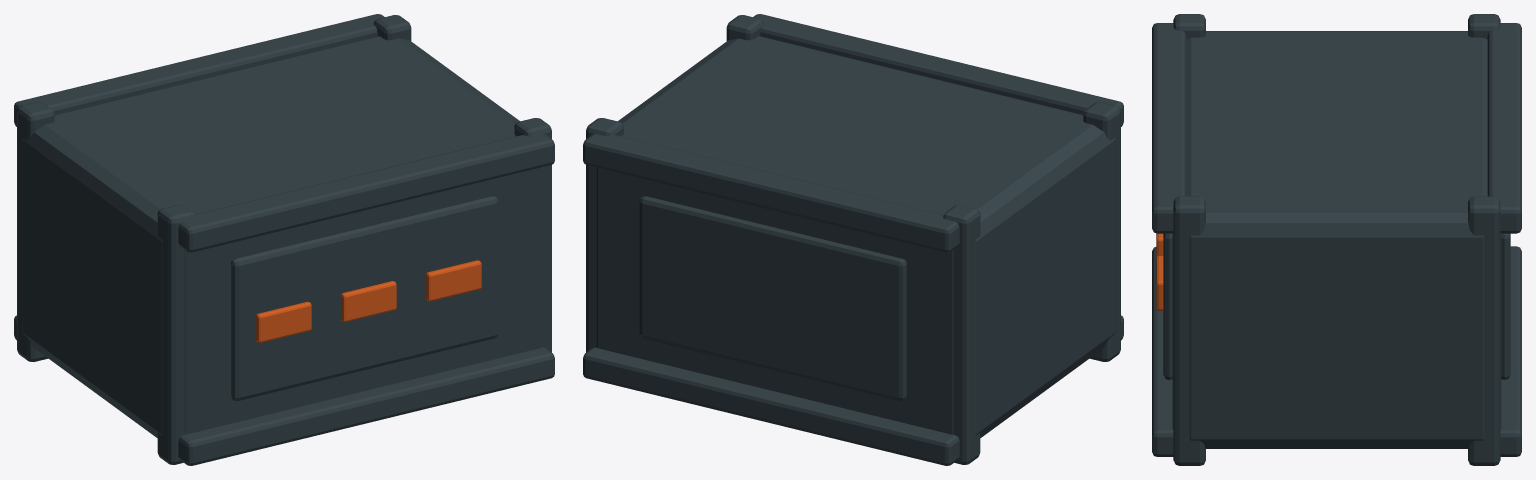
The model's file is dz_cargo_crate.glb.
The picture shows the model from 3 angles, left to right: view 1: azimuth 30°, elevation 25°; view 2: azimuth 150°, elevation 25°; view 3: azimuth 270°, elevation 25°; orthographic projection. The views are drawn at different scales.
Visible parts, largest first — view 1: CrateBody, CratePanelFront, FrameTop_0.8, FrameTop_0.08, FrameRear_0.8, CornerRail_-0.63_-0.43, CornerRail_0.63_-0.43, CornerRail_-0.63_0.43, HazardTab_2, HazardTab_1, HazardTab_0, CornerRail_0.63_0.43; view 2: CrateBody, CratePanelRear, FrameRear_0.8, FrameRear_0.08, FrameTop_0.8, CornerRail_-0.63_0.43, CornerRail_0.63_0.43, CornerRail_-0.63_-0.43, CornerRail_0.63_-0.43; view 3: CrateBody, FrameRear_0.8, FrameTop_0.8, CornerRail_0.63_0.43, CornerRail_0.63_-0.43, FrameRear_0.08, FrameTop_0.08, CratePanelFront, CratePanelRear, CornerRail_-0.63_0.43, CornerRail_-0.63_-0.43, HazardTab_2.
Part boxes in pixels (x1,y1,x2,y2): CrateBody: (22,36,541,437); CratePanelFront: (231,196,498,400); FrameTop_0.8: (178,134,554,252); FrameTop_0.08: (178,347,554,465); FrameRear_0.8: (14,14,384,126); CornerRail_-0.63_-0.43: (157,205,194,464); CornerRail_0.63_-0.43: (514,118,551,352); CornerRail_-0.63_0.43: (17,102,54,361); HazardTab_2: (426,260,481,301); HazardTab_1: (341,281,396,322); HazardTab_0: (256,301,311,342); CornerRail_0.63_0.43: (374,15,411,40); CrateBody: (596,36,1115,437); CratePanelRear: (639,196,906,400); FrameRear_0.8: (583,134,959,252); FrameRear_0.08: (583,347,959,465); FrameTop_0.8: (753,14,1123,126); CornerRail_-0.63_0.43: (943,205,980,464); CornerRail_0.63_0.43: (586,118,623,352); CornerRail_-0.63_-0.43: (1083,102,1120,361); CornerRail_0.63_-0.43: (726,15,763,40); CrateBody: (1172,31,1501,448); FrameRear_0.8: (1487,23,1521,233); FrameTop_0.8: (1152,23,1186,233); CornerRail_0.63_0.43: (1468,196,1500,465); CornerRail_0.63_-0.43: (1173,196,1205,465); FrameRear_0.08: (1500,246,1521,456); FrameTop_0.08: (1152,247,1173,456); CratePanelFront: (1163,233,1172,379); CratePanelRear: (1501,233,1510,379); CornerRail_-0.63_0.43: (1468,14,1500,39); CornerRail_-0.63_-0.43: (1173,14,1205,39); HazardTab_2: (1156,256,1163,310).
Size of the model in its own units: 1.36 by 0.84 by 1.08.
